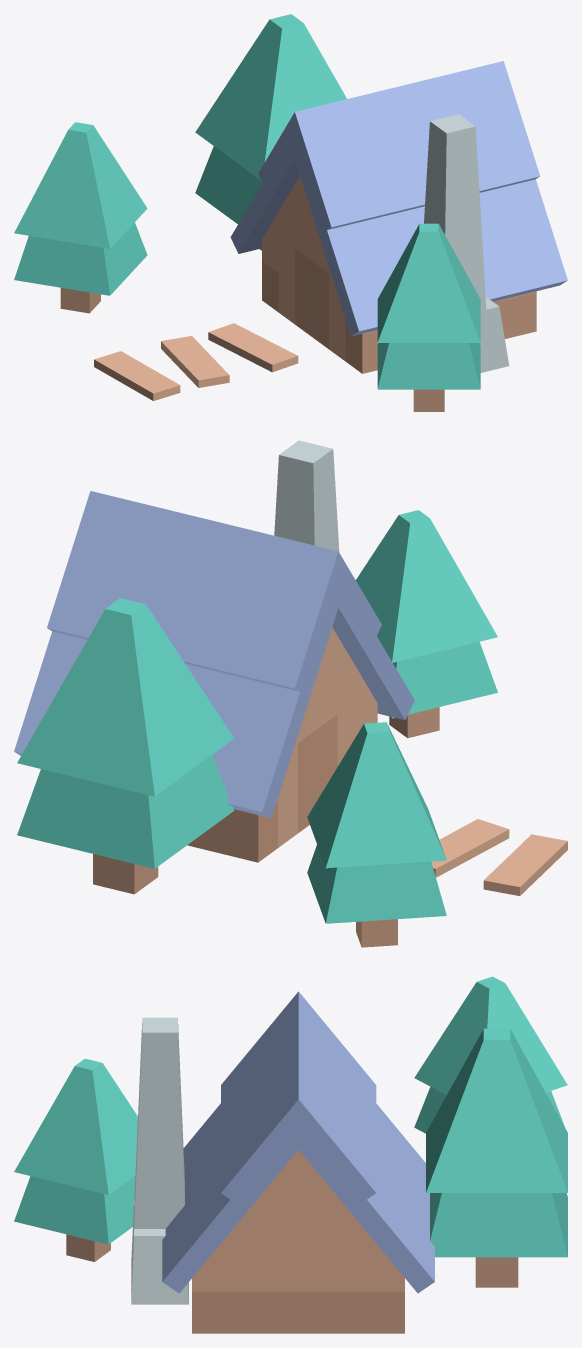
File: Houselvl2.fbx
3 renders of one model, top to bottom at view 1: azimuth 30°, elevation 25°; view 2: azimuth 150°, elevation 25°; view 3: azimuth 270°, elevation 25°, orthographic. The views are drawn at different scales.
Parts seen in each view (by area): view 1: building, tree.002, tree, tree.001, Chimney, Path; view 2: building, tree.001, tree.002, tree, Chimney, Path; view 3: building, tree.001, tree, Chimney, tree.002.
Boxes of the visible parts, <box> form: building: <box>230,61,567,373</box>; tree.002: <box>14,122,147,313</box>; tree: <box>377,223,480,411</box>; tree.001: <box>195,14,346,250</box>; Chimney: <box>424,114,509,372</box>; Path: <box>94,323,298,400</box>; building: <box>14,491,414,862</box>; tree.001: <box>17,598,234,894</box>; tree.002: <box>307,722,446,947</box>; tree: <box>355,510,497,738</box>; Chimney: <box>274,440,339,551</box>; Path: <box>431,819,567,895</box>; building: <box>162,991,434,1333</box>; tree.001: <box>426,1028,567,1287</box>; tree: <box>14,1058,137,1261</box>; Chimney: <box>131,1017,188,1304</box>; tree.002: <box>414,976,567,1133</box>.
Bounding box in the file's own units: 68.06 × 40 × 78.04.
